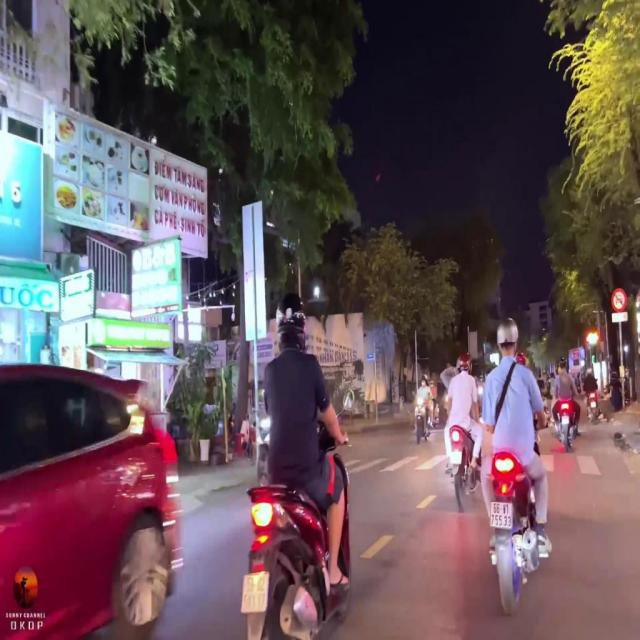cam_o_to: (610, 288, 628, 314)
khac: (610, 312, 628, 322)
